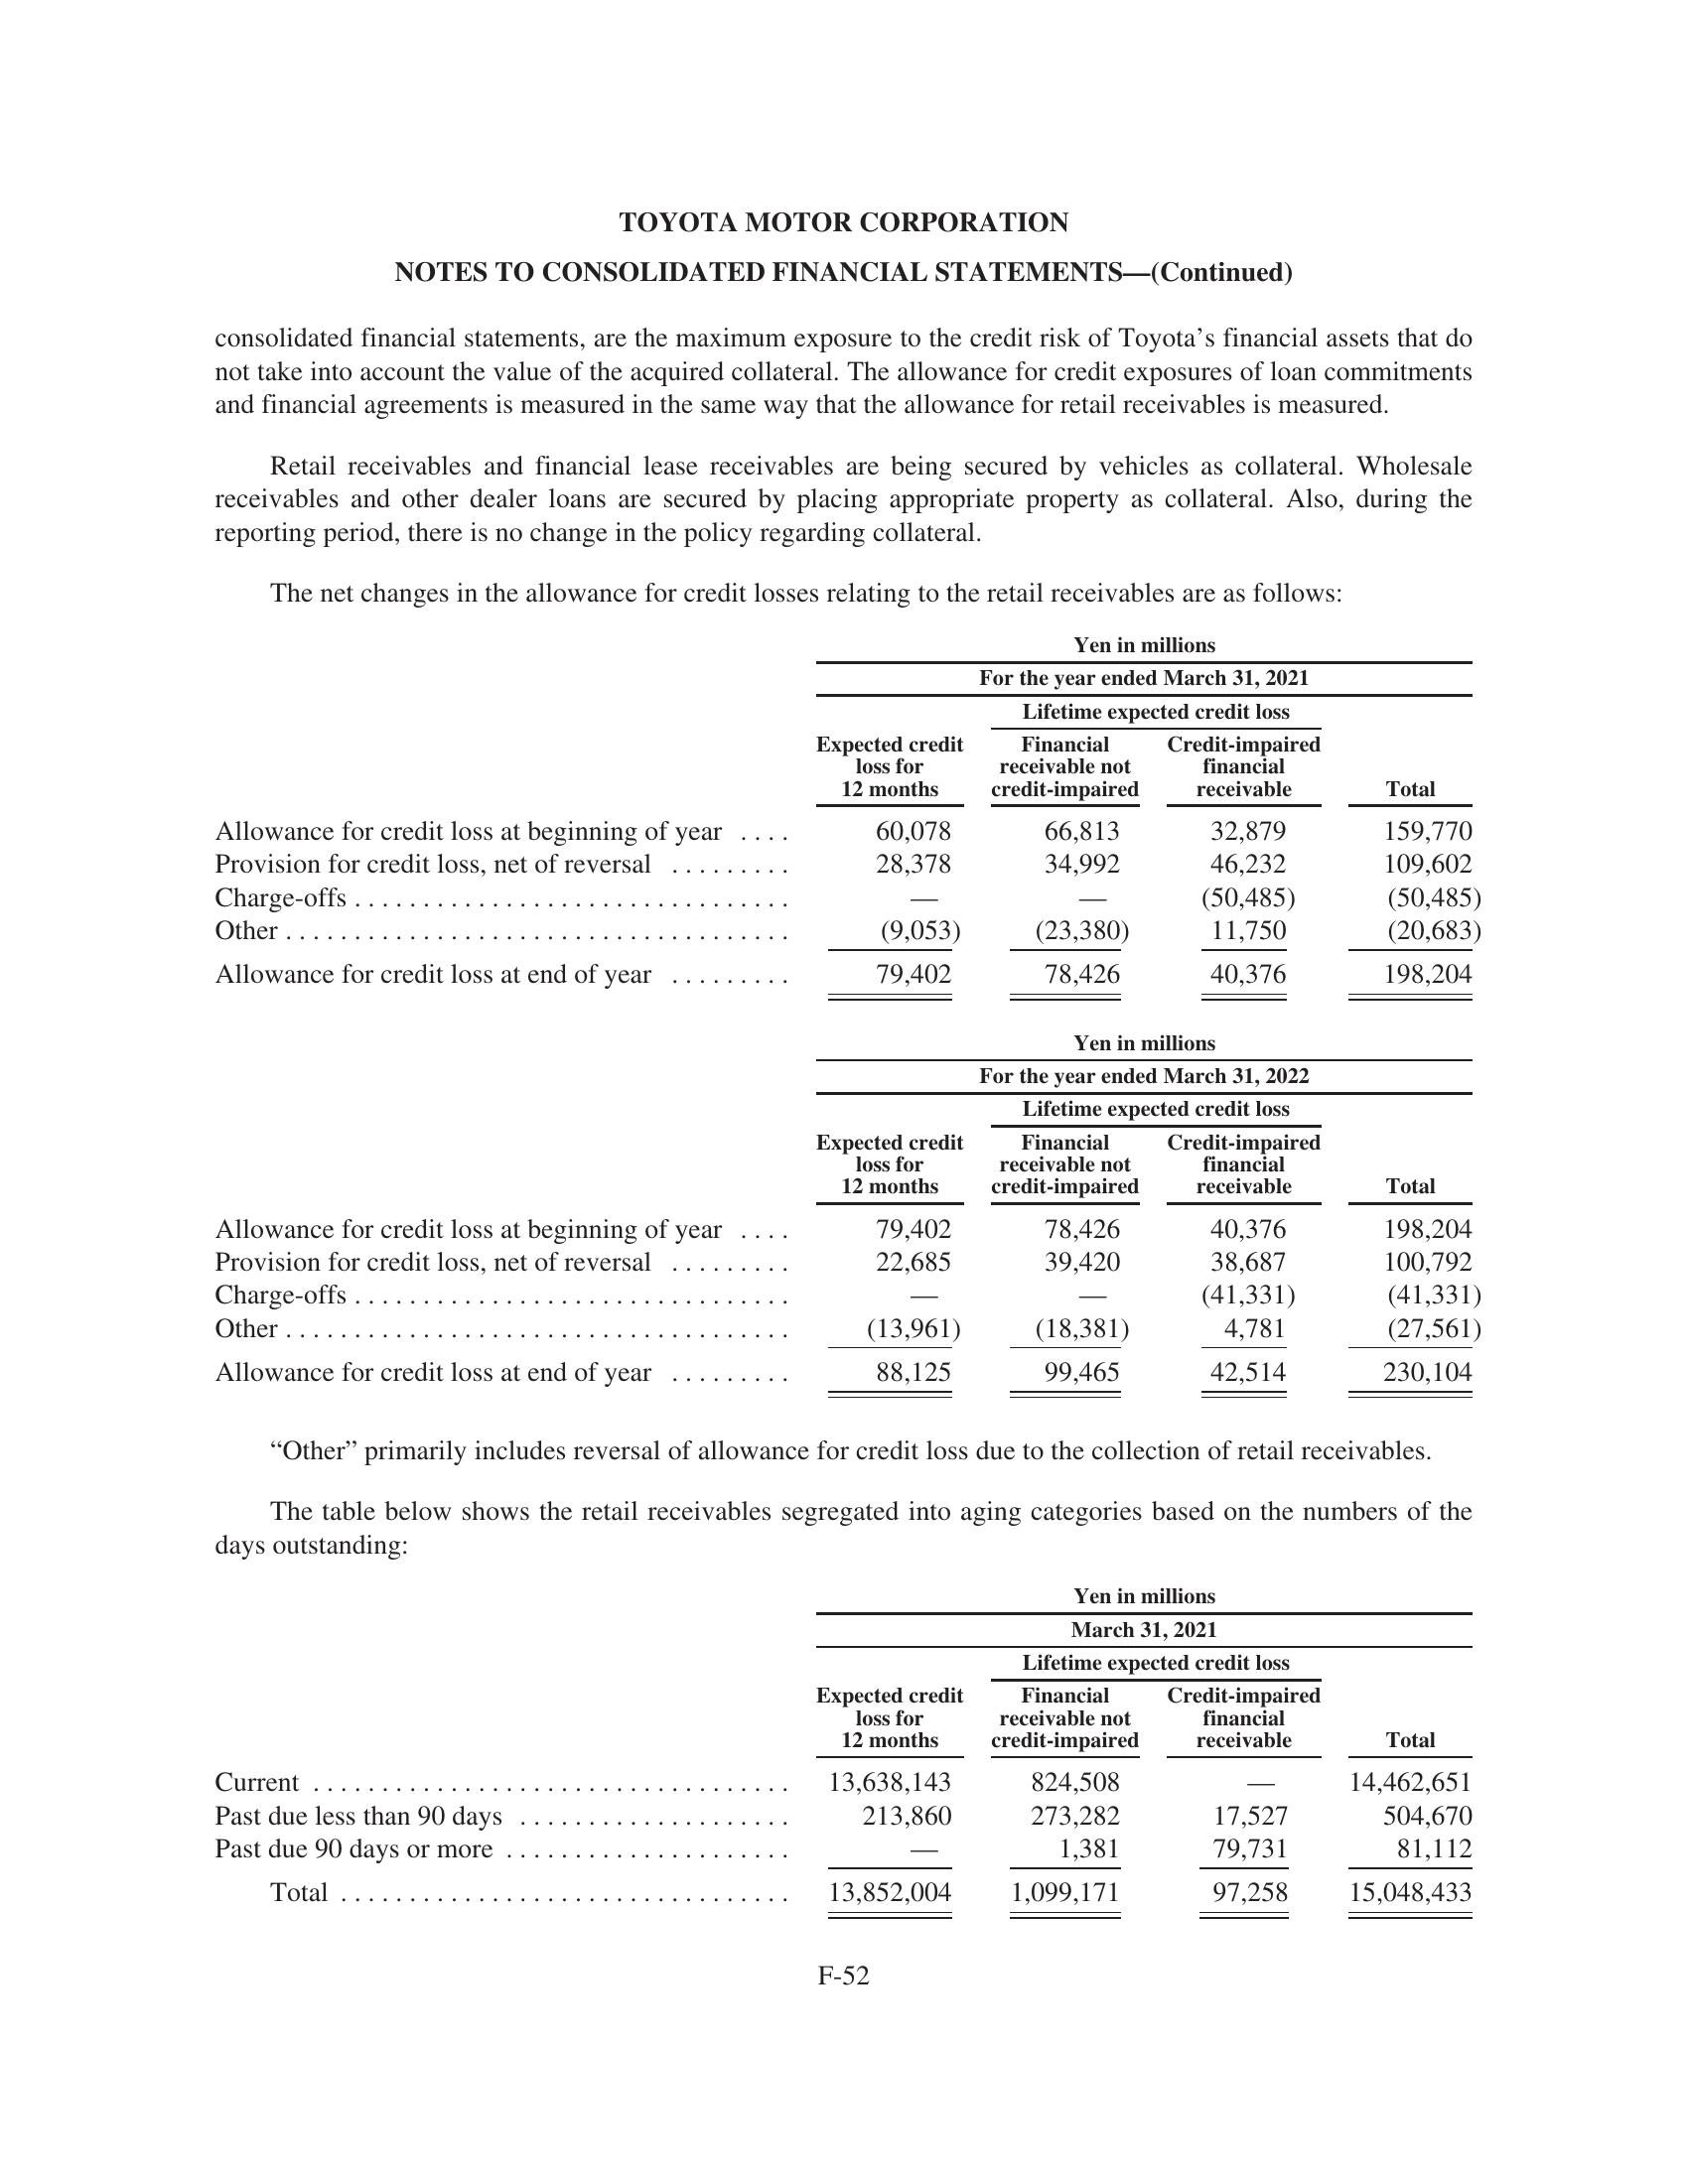Footer: (0, 1950, 1688, 2184)
Header: (0, 0, 1688, 179)
Table: (179, 1562, 1509, 1950), (176, 622, 1500, 1009), (170, 1026, 1500, 1404)
